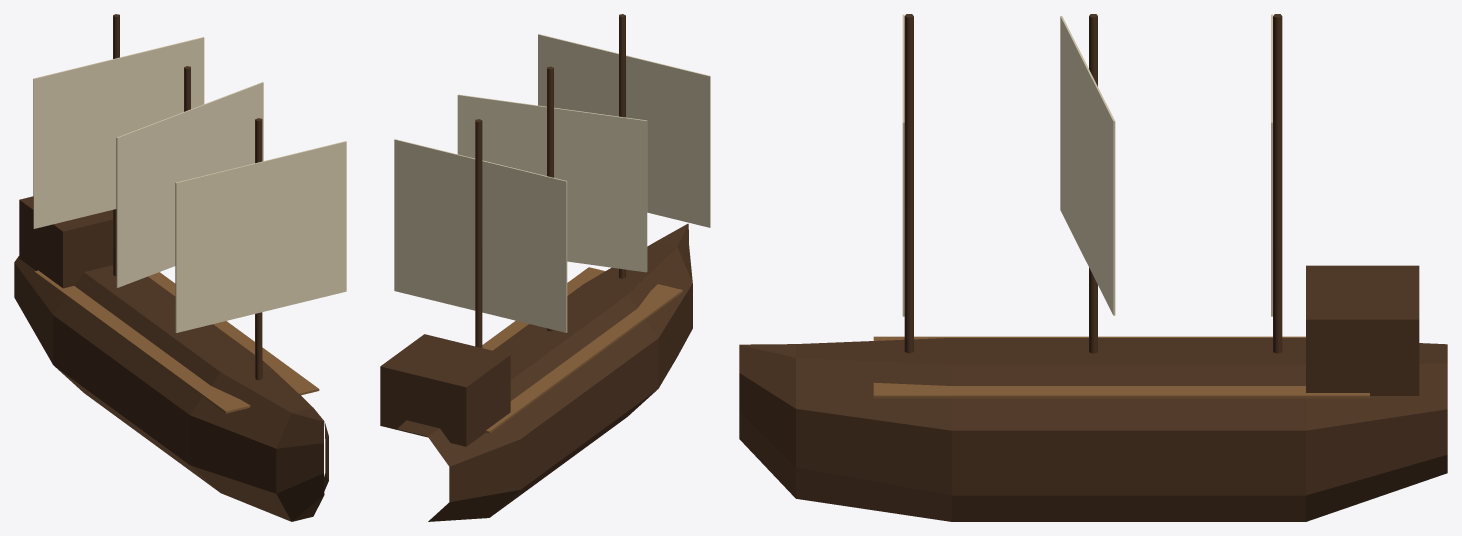
Rendered from veh_naval_merchant_a04.glb.
The picture shows the model from 3 angles, left to right: view 1: azimuth 30°, elevation 25°; view 2: azimuth 150°, elevation 25°; view 3: azimuth 270°, elevation 25°; orthographic projection. The views are drawn at different scales.
Visible parts, largest first — view 1: body, sail_2, sail_0, sail_1; view 2: body, sail_0, sail_1, sail_2; view 3: body, sail_1, sail_2.
Part boxes in pixels (x1,y1,x2,y2): body: (14, 14, 328, 521); sail_2: (175, 141, 346, 332); sail_0: (33, 37, 204, 228); sail_1: (116, 82, 263, 287); body: (380, 14, 692, 521); sail_0: (394, 139, 567, 332); sail_1: (457, 94, 647, 272); sail_2: (538, 34, 710, 227); body: (739, 14, 1447, 521); sail_1: (1060, 16, 1115, 315); sail_2: (902, 14, 904, 316).
Size of what is drawn, in the model's own units: 6.77 by 14.42 by 18.8.
